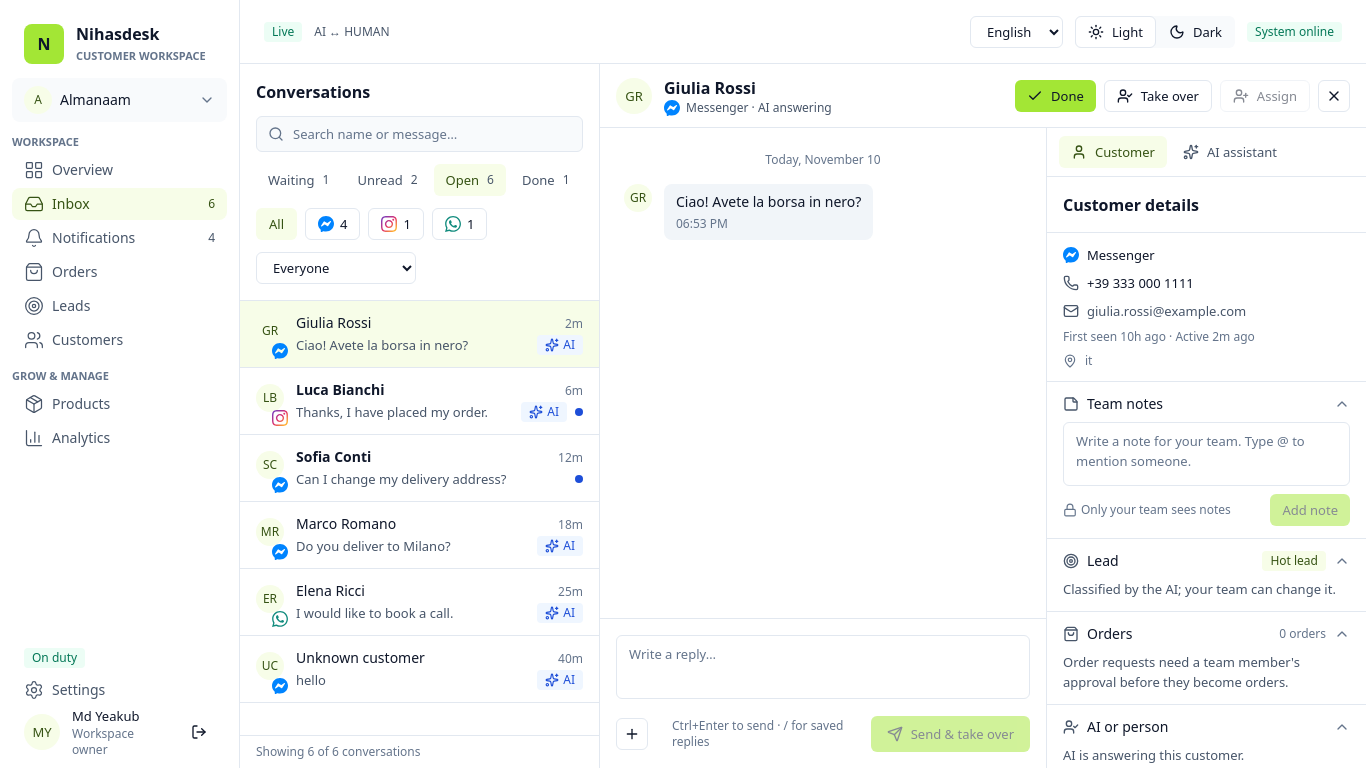
it: AI assistant › switches the side panel between Customer and AI assistant
Expected: the text "giulia.rossi@example.com" is shown, [1063,302,1246,320]
Click the tab "AI assistant" at x=1230, y=152, box [1171,136,1289,168]
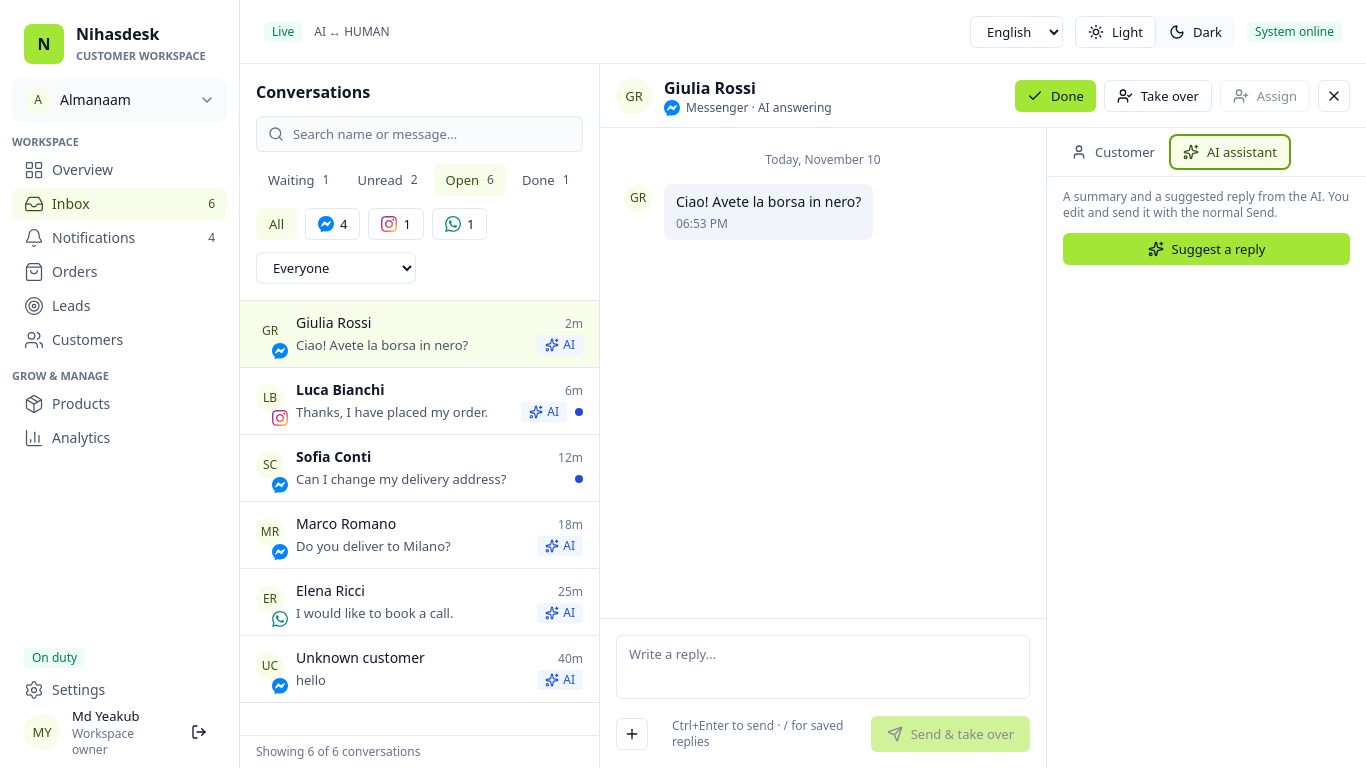
Expected: the button "Suggest a reply" is shown, [1063,233,1350,265]
Click the tab "Customer" at x=1113, y=152, box [1059,136,1167,168]
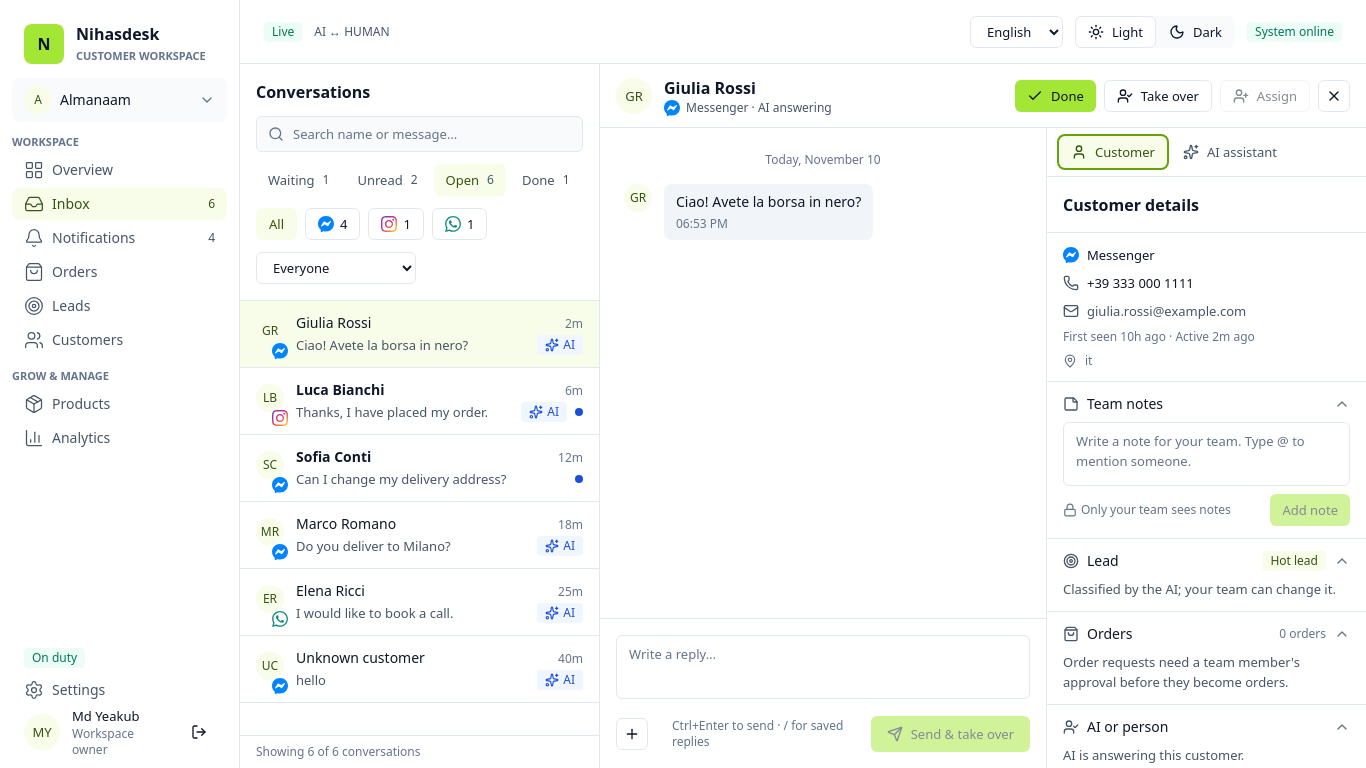
Expected: the text "giulia.rossi@example.com" is shown, [1063,302,1246,320]
